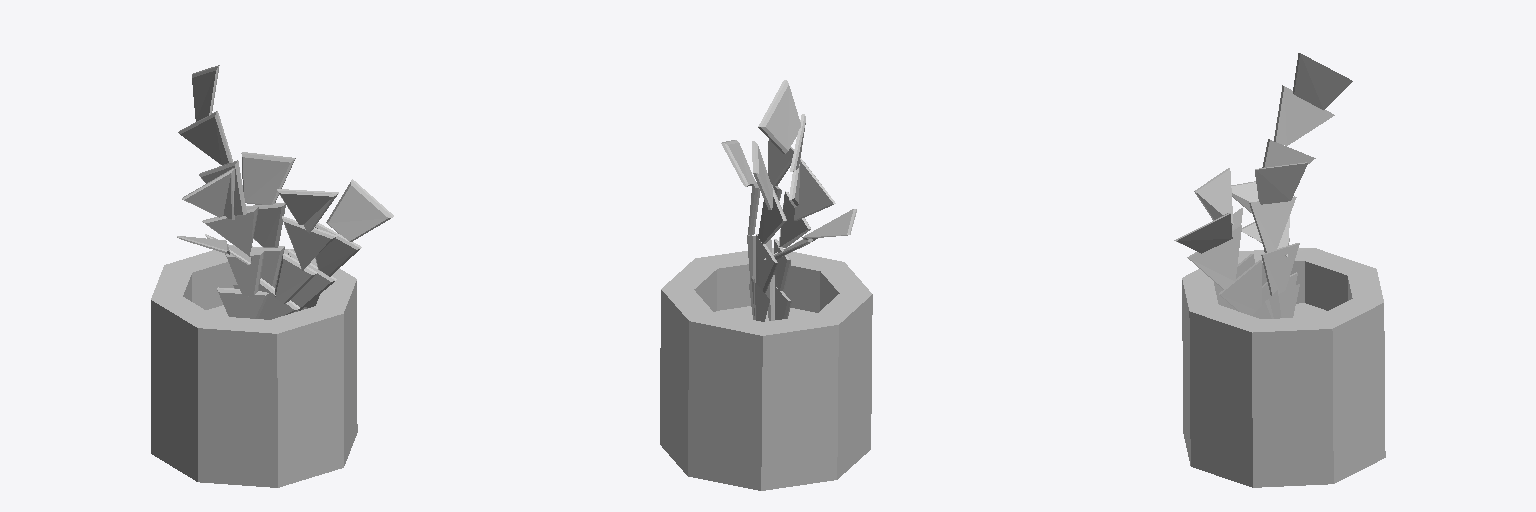
The model's file is christmas cactus.obj.
The picture shows the model from 3 angles: view 1: azimuth 30°, elevation 25°; view 2: azimuth 150°, elevation 25°; view 3: azimuth 270°, elevation 25°; orthographic projection.
Visible parts, largest first — view 1: Plane.001; view 2: Plane.001; view 3: Plane.001.
Part boxes in pixels (bbox=[...]): Plane.001: bbox=[151, 65, 393, 487]; Plane.001: bbox=[660, 80, 872, 490]; Plane.001: bbox=[1174, 53, 1385, 487].
Bounding box in the file's own units: 0.6054 × 1.25 × 0.6285.